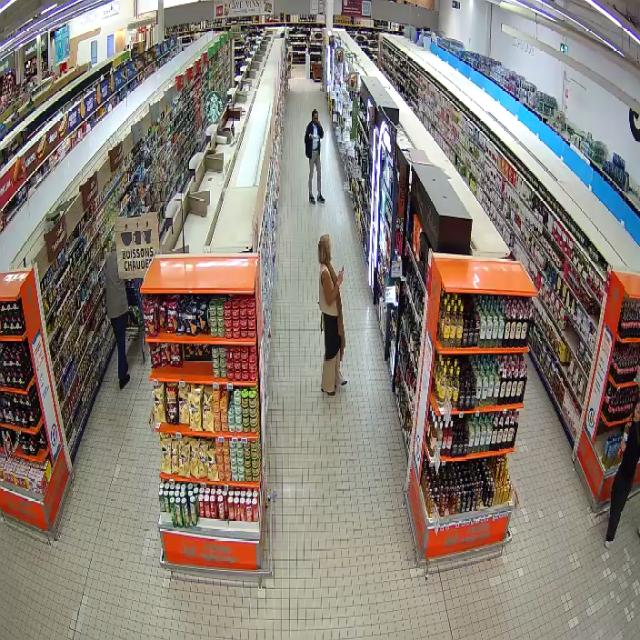article: (312, 135, 320, 141)
hands: (336, 266, 344, 286), (316, 119, 321, 127), (308, 134, 312, 140)
person: (605, 400, 639, 547), (318, 234, 346, 394), (105, 251, 129, 389), (305, 109, 325, 203)
